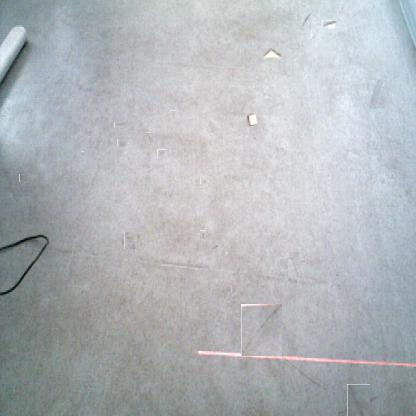dirty: (262, 48, 282, 60), (246, 113, 258, 126), (322, 20, 337, 29)
mark: (241, 304, 282, 356), (285, 360, 329, 392), (342, 388, 374, 416), (369, 80, 387, 112), (283, 256, 303, 274), (123, 233, 139, 248), (301, 12, 311, 28), (334, 268, 343, 278), (157, 149, 166, 158), (145, 133, 154, 142), (117, 138, 126, 146), (311, 29, 318, 39), (114, 122, 125, 128), (210, 242, 218, 250), (201, 178, 209, 185), (200, 230, 206, 239), (19, 175, 25, 182), (170, 110, 176, 117), (252, 135, 258, 141), (2, 172, 10, 176), (340, 5, 345, 11), (381, 180, 385, 186), (80, 151, 84, 156)
